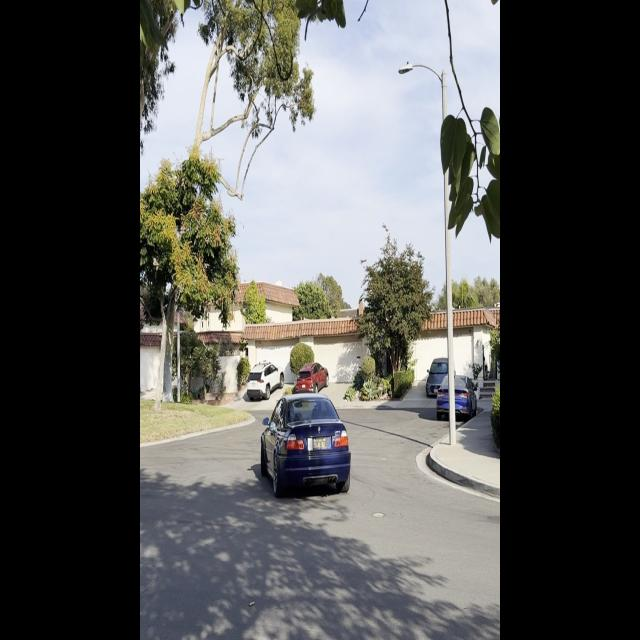Carbeetle: (256, 388, 360, 508)
Civilian: (435, 372, 479, 422), (245, 358, 287, 403), (292, 360, 334, 397), (426, 355, 456, 397)
